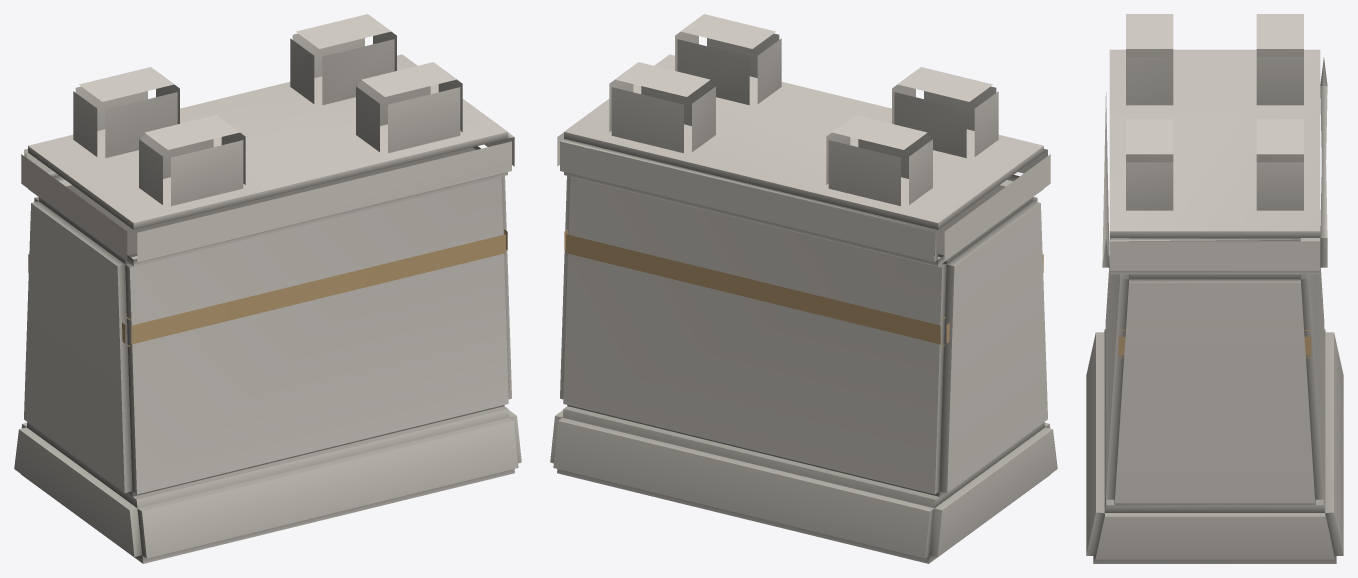
File: wall_connector_lod1.glb
The picture shows the model from 3 angles, left to right: view 1: azimuth 30°, elevation 25°; view 2: azimuth 150°, elevation 25°; view 3: azimuth 270°, elevation 25°; orthographic projection.
Visible parts, largest first — view 1: wall_connector.001; view 2: wall_connector.001; view 3: wall_connector.001.
Part boxes in pixels (left/top/right/bottom): wall_connector.001: left=14, top=14, right=521, bottom=563; wall_connector.001: left=550, top=14, right=1057, bottom=563; wall_connector.001: left=1086, top=14, right=1343, bottom=563.
Bounding box in the file's own units: 1.5 × 1.45 × 0.8682.
